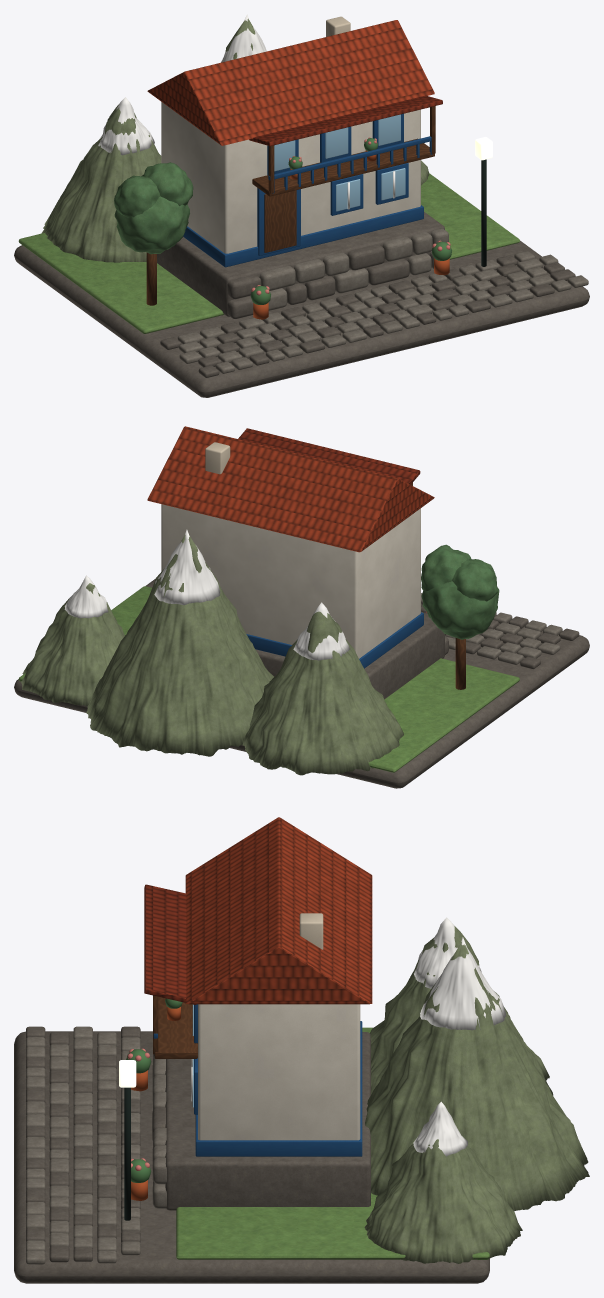
File: casa.glb
3 views of the same model, one above another, from view 1: azimuth 30°, elevation 25°; view 2: azimuth 150°, elevation 25°; view 3: azimuth 270°, elevation 25° (orthographic). The views are drawn at different scales.
Parts seen in each view (by area): view 1: techo, losa, muro, pasto, Cone, plataforma, zocalo, Icosphere.004, balcon_piso, balcon_techo, puerta, Icosphere.006 (+24 smaller); view 2: muro, Cone.002, techo, Cone, pasto, losa, Cone.004, plataforma, Icosphere.004, Cone.003, balcon_techo, Icosphere.006 (+6 smaller); view 3: techo, Cone.002, muro, losa, plataforma, Cone.004, pasto, balcon_techo, Cone.003, Cone, zocalo, balcon_piso (+4 smaller).
Boxes of the visible parts, x1,y1,x2,y2 form: techo: (147,20,434,145); losa: (14,240,589,397); muro: (161,102,420,253); pasto: (18,173,519,333); Cone: (41,104,161,262); plataforma: (157,212,444,316); zocalo: (183,205,423,267); Icosphere.004: (114,196,189,254); balcon_piso: (252,138,434,196); balcon_techo: (249,95,442,146); puerta: (264,190,296,252); Icosphere.006: (114,175,160,217); muro: (161,504,420,658); Cone.002: (86,535,273,756); techo: (147,426,434,552); Cone: (242,611,403,775); pasto: (18,586,519,772); losa: (14,578,589,788); Cone.004: (21,583,124,706); plataforma: (255,614,444,699); Icosphere.004: (421,581,499,639); Cone.003: (154,529,221,605); balcon_techo: (238,428,420,484); Icosphere.006: (452,559,497,601); techo: (185,817,372,1004); Cone.002: (365,942,589,1211); muro: (198,1004,360,1140); losa: (14,1031,489,1283); plataforma: (165,1032,370,1210); Cone.004: (364,1111,522,1263); pasto: (176,1027,489,1259); balcon_techo: (144,884,196,1004); Cone.003: (420,937,506,1030); Cone: (370,926,553,1095); zocalo: (195,1021,362,1156); balcon_piso: (154,996,197,1058).
Bounding box in the file's own units: 5.21 × 2.94 × 5.32.
Materials: 152 (144 with a texture image).
